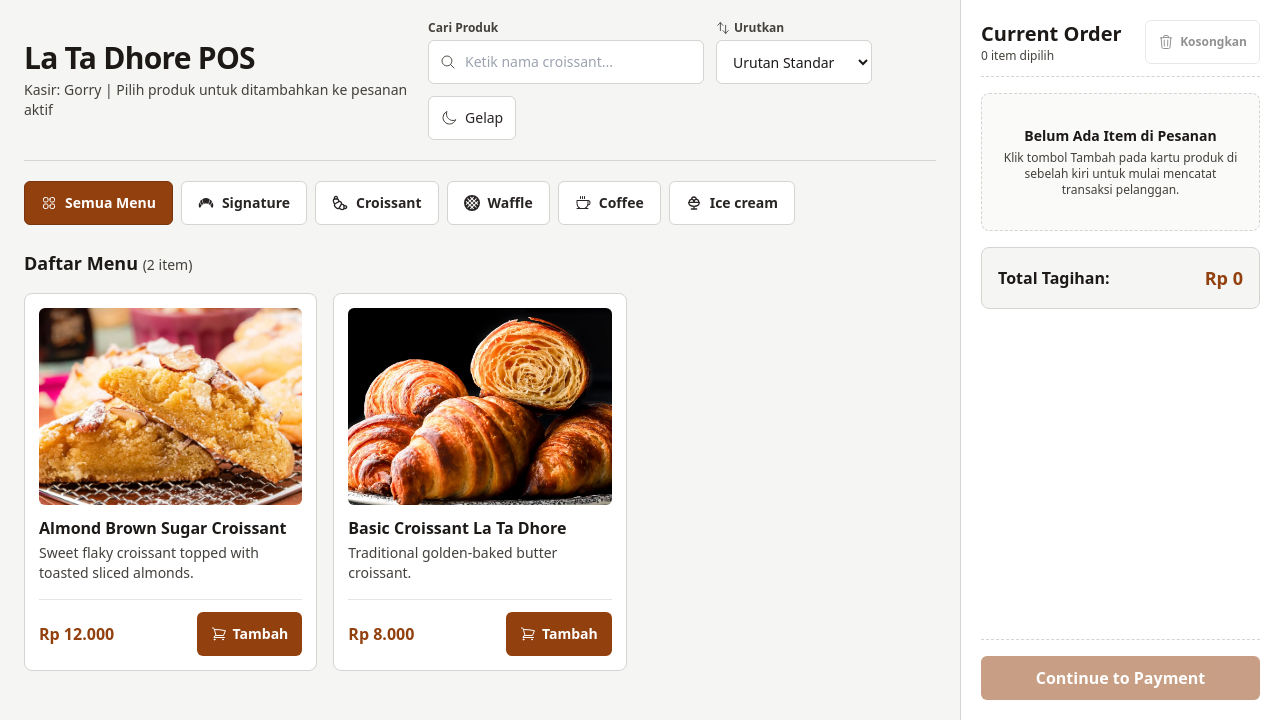
Test: filters products by category, search query, sort, and resets filter
Expected: the heading "Almond Brown Sugar Croissant" is shown, top-left (39, 518), bottom-right (286, 540)
Search input & clear search button
Type "Basic" into the search field labelled "Cari Produk". click: (566, 62)
box: top-left (428, 40), bottom-right (704, 84)
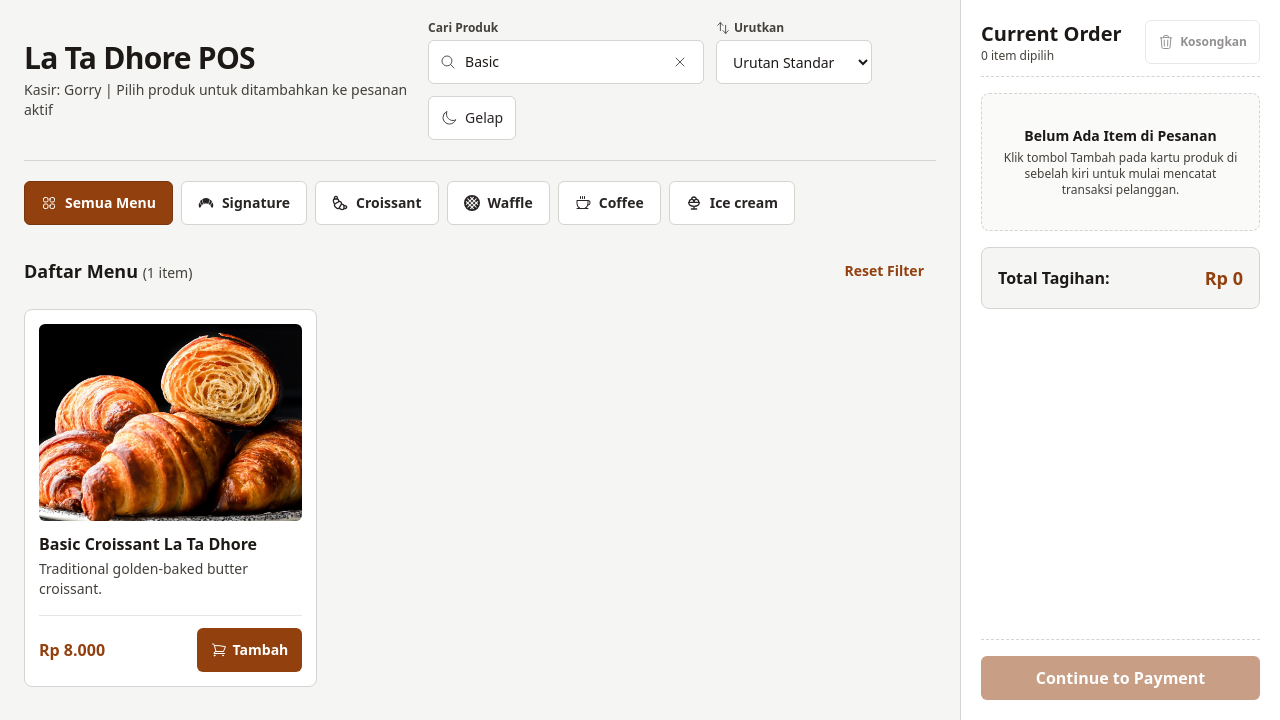
Expected: the heading "Basic Croissant La Ta Dhore" is shown, top-left (39, 534), bottom-right (257, 556)
Expected: the heading "Almond Brown Sugar Croissant" is gone
Click the button named "Hapus pencarian". click: click(680, 62)
box: top-left (662, 44), bottom-right (698, 80)
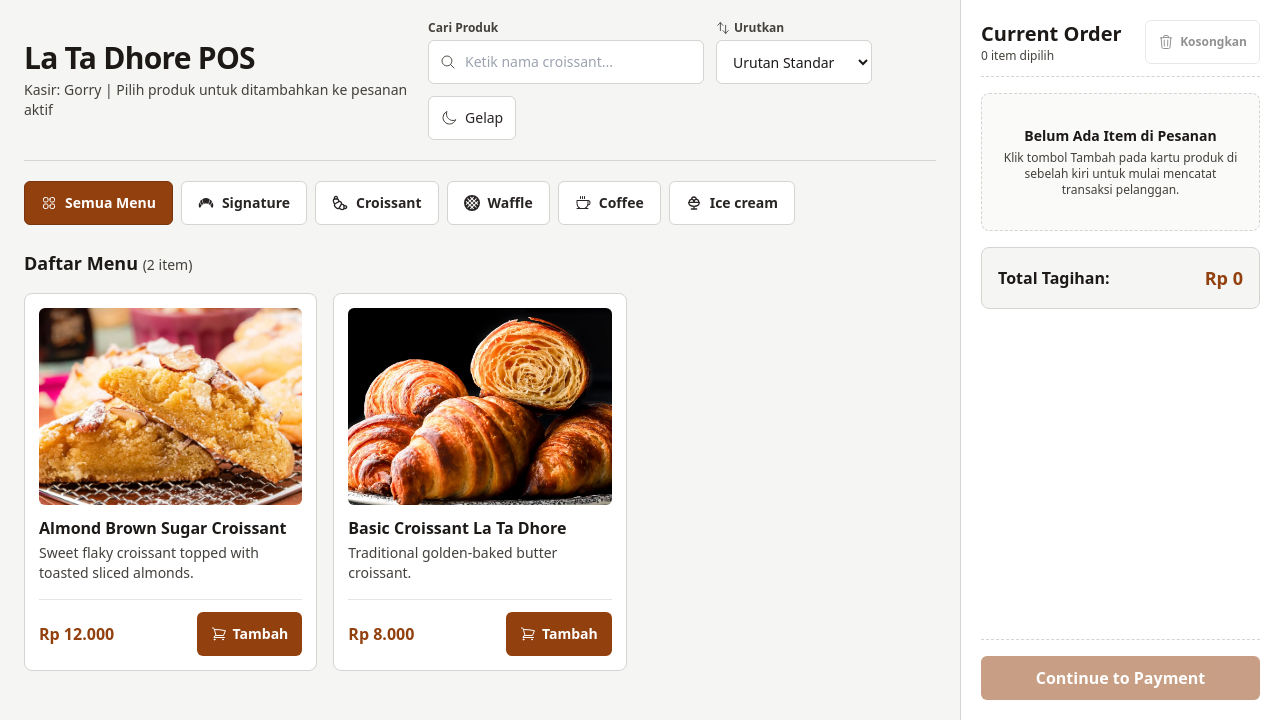
Expected: the heading "Almond Brown Sugar Croissant" is shown, top-left (39, 518), bottom-right (286, 540)
Sort select
Select "Harga: Terendah" in the dropdown labelled "Urutkan". click: (794, 62)
box: top-left (716, 40), bottom-right (872, 84)
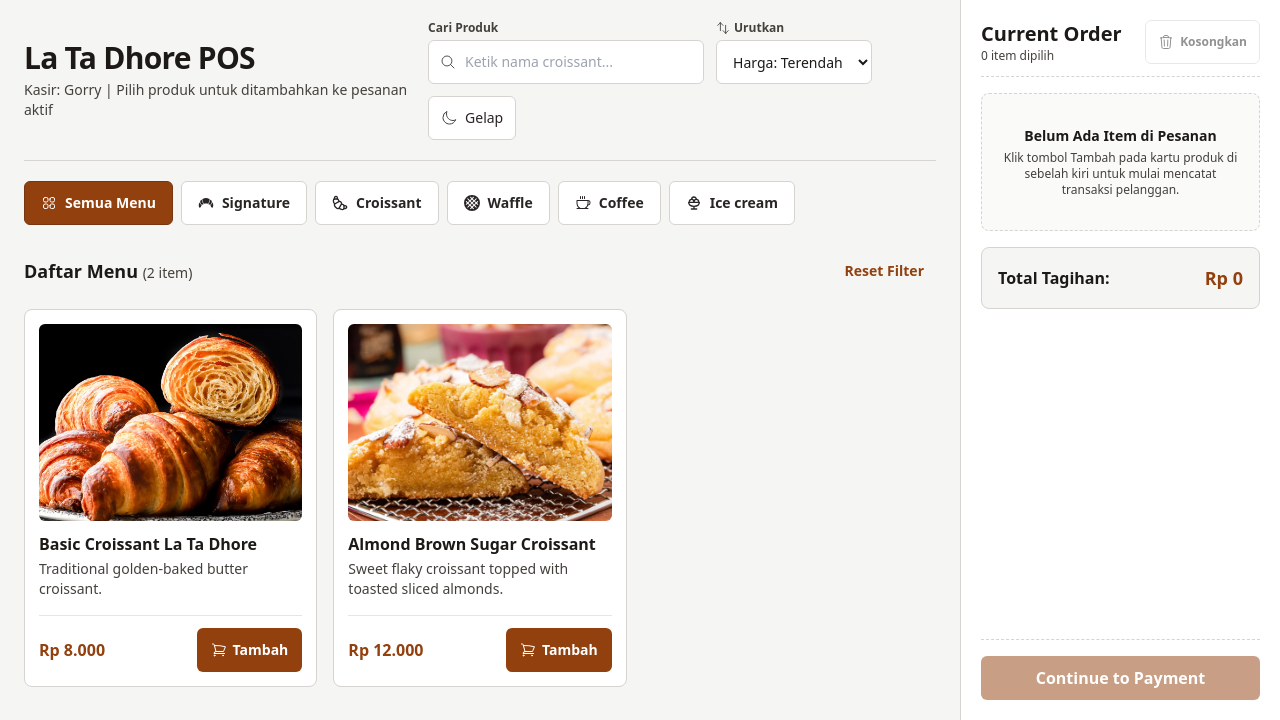
Click the button "Waffle". click: click(498, 203)
box: top-left (447, 181), bottom-right (550, 225)
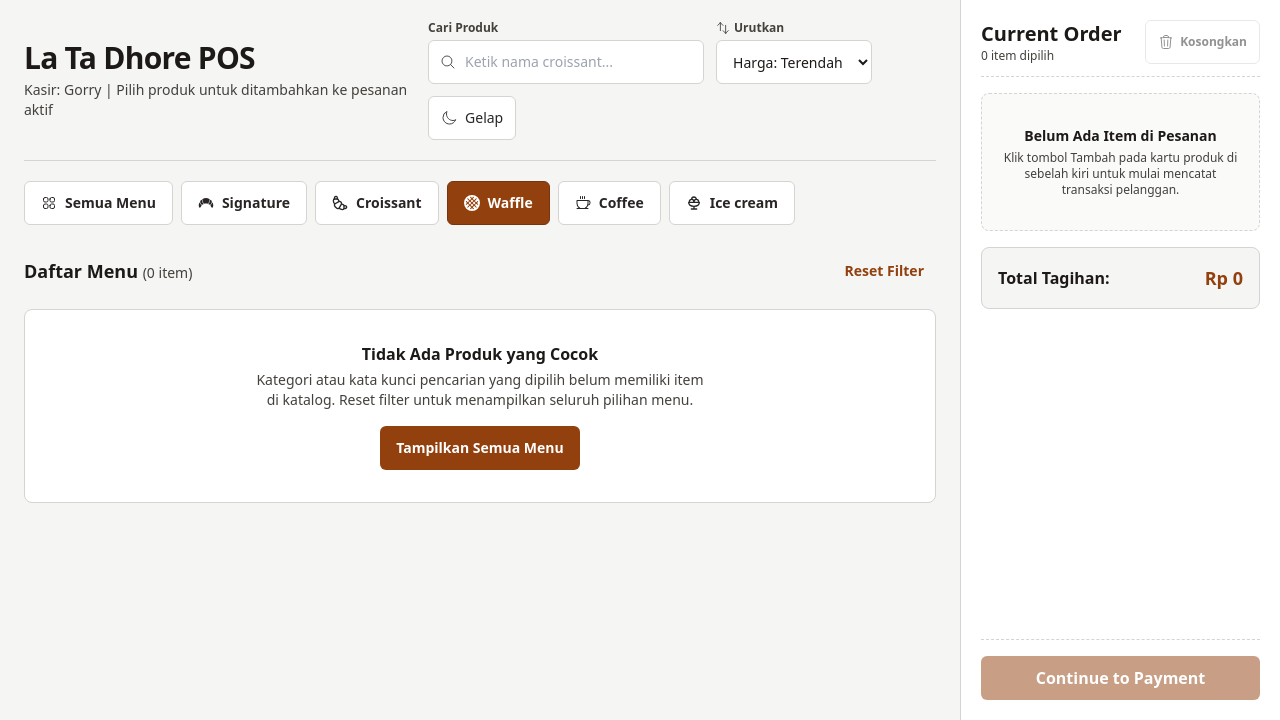
Expected: the heading "Tidak Ada Produk yang Cocok" is shown, top-left (362, 343), bottom-right (598, 365)
Click the button "Tampilkan Semua Menu". click: click(480, 448)
box: top-left (380, 426), bottom-right (580, 470)
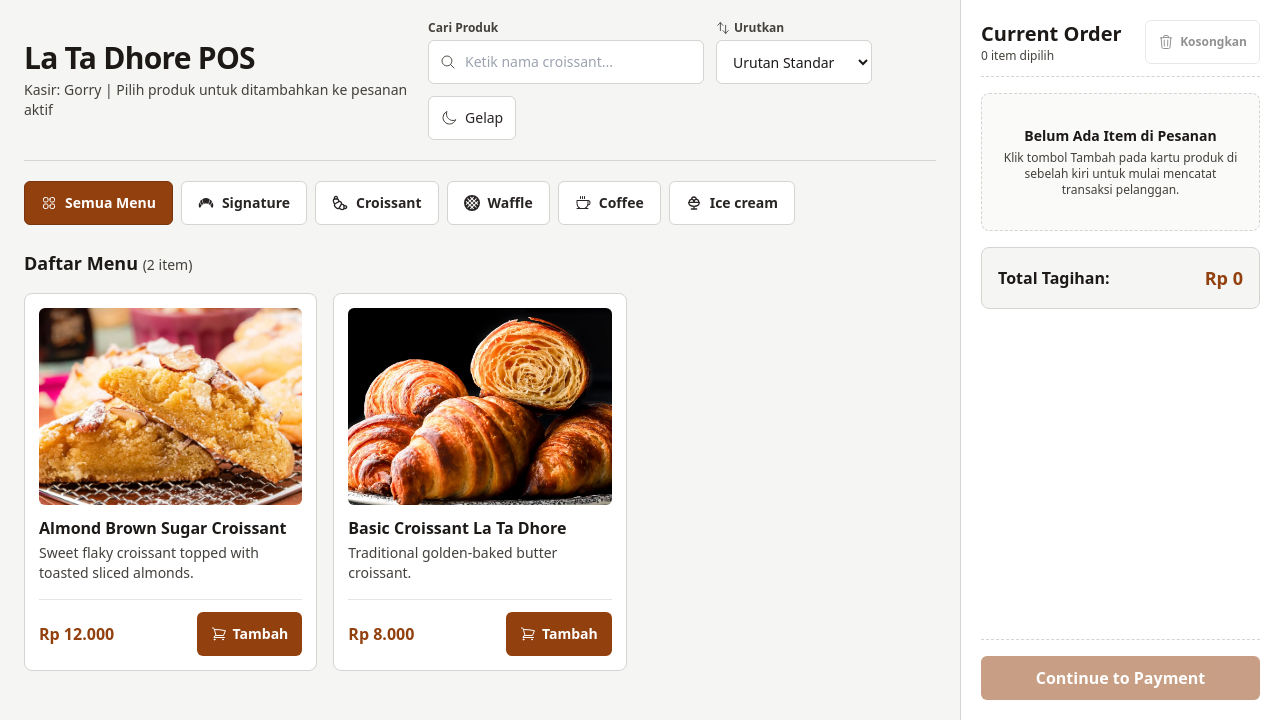
Expected: the heading "Basic Croissant La Ta Dhore" is shown, top-left (348, 518), bottom-right (566, 540)
